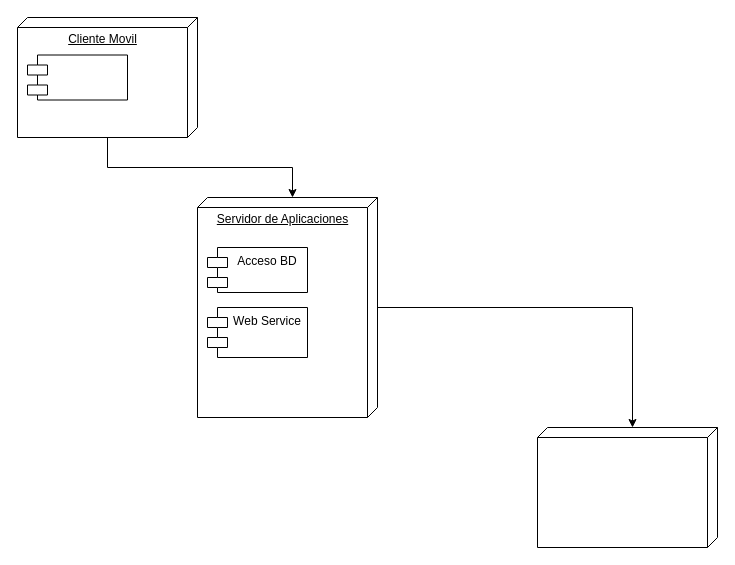
This 735x565 diagram has some shape labels left out. Each missing label, with the centre of its shape:
"Bases de Datos" goes at (x=627, y=487).
"Interfaz Movil" goes at (x=77, y=77).
